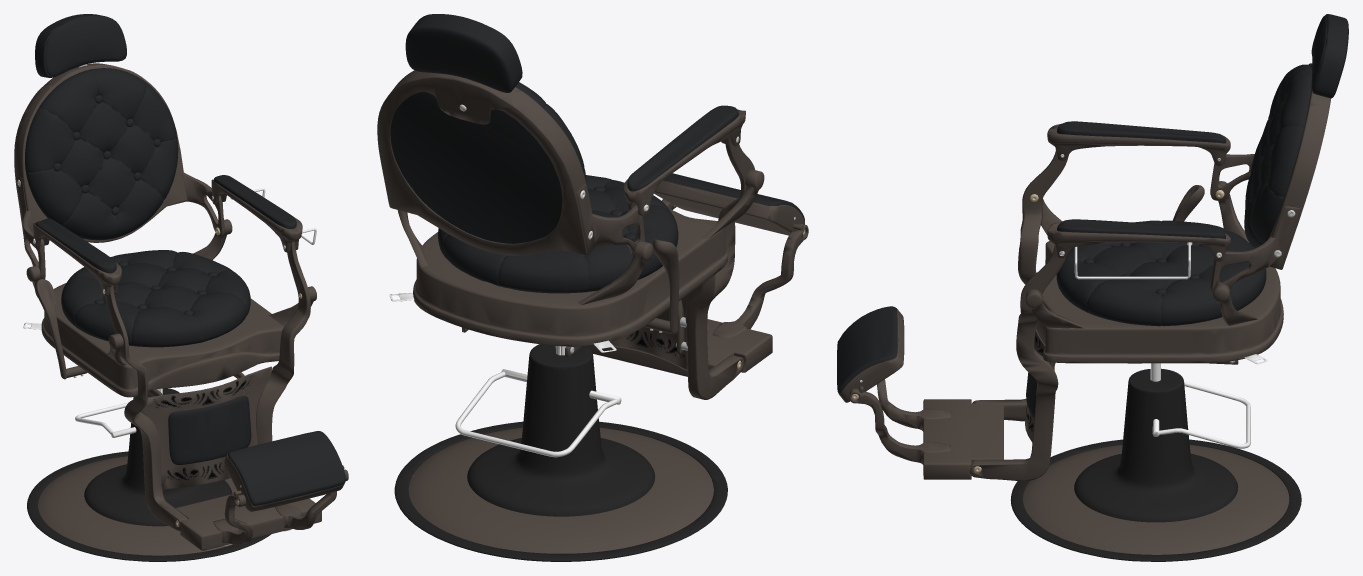
The model's file is chair.glb.
3 views of the same model, side by side, from view 1: azimuth 30°, elevation 25°; view 2: azimuth 150°, elevation 25°; view 3: azimuth 270°, elevation 25° (orthographic). The views are drawn at different scales.
Visible parts, largest first — view 1: ASSET; view 2: ASSET; view 3: ASSET.
Boxes of the visible parts, x1,y1,x2,y2 form: ASSET: [14, 14, 348, 561]; ASSET: [377, 14, 808, 561]; ASSET: [837, 14, 1348, 561].
Bounding box in the file's own units: 0.5893 × 1.03 × 0.9995.
1 material, 1 textured.
